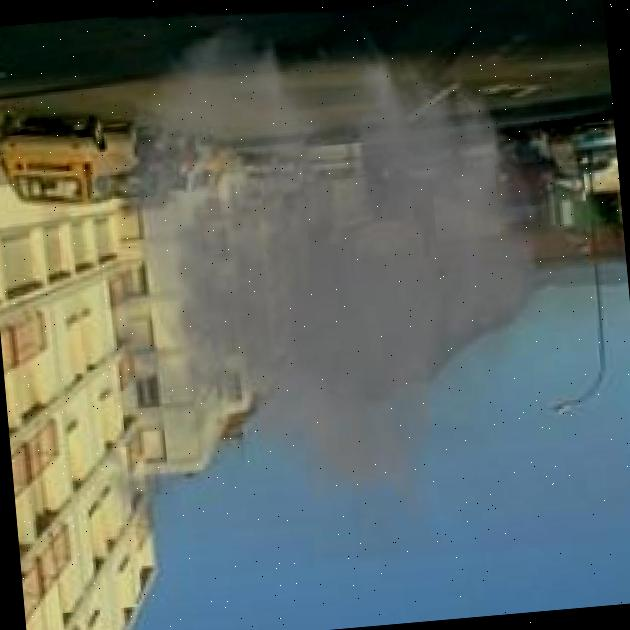smoke: (46, 0, 630, 585)
